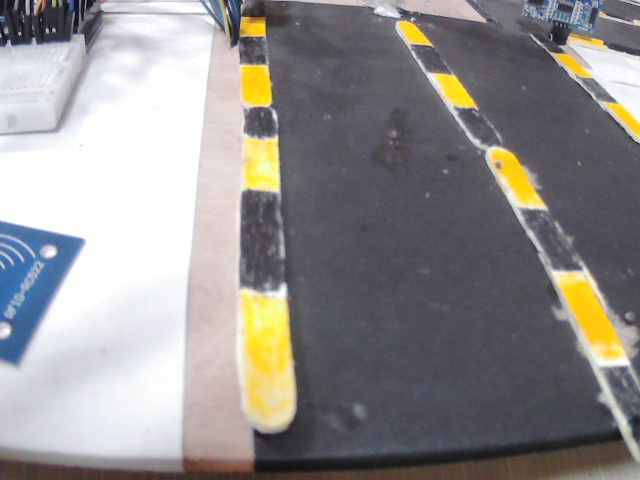black_strip: (243, 186, 290, 288), (518, 210, 578, 271), (598, 368, 640, 447), (452, 104, 500, 151), (243, 111, 280, 145), (413, 44, 448, 72), (239, 37, 271, 65), (528, 29, 562, 55), (580, 78, 613, 102)
uno_breadboard: (0, 2, 104, 129), (0, 219, 79, 366), (524, 0, 597, 26)
yellow_strip: (551, 271, 633, 359), (237, 291, 295, 414), (486, 150, 542, 209), (424, 72, 476, 106), (245, 144, 279, 195), (603, 102, 640, 145), (243, 64, 270, 108), (556, 53, 593, 78), (400, 21, 429, 45), (239, 16, 267, 38), (566, 31, 611, 43)
